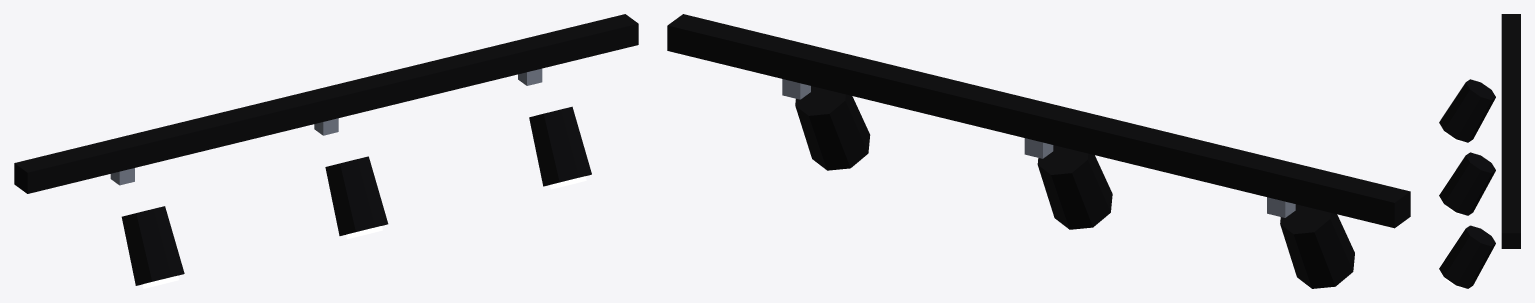
The model's file is SM_Light_Track_3Spot.glb.
The picture shows the model from 3 angles, left to right: view 1: azimuth 30°, elevation 25°; view 2: azimuth 150°, elevation 25°; view 3: azimuth 270°, elevation 25°; orthographic projection. The views are drawn at different scales.
Parts seen in each view (by area): view 1: SM_Light_Track_3Spot; view 2: SM_Light_Track_3Spot; view 3: SM_Light_Track_3Spot.
Part boxes in pixels (x1,y1,x2,y2): SM_Light_Track_3Spot: [14, 14, 638, 288]; SM_Light_Track_3Spot: [667, 14, 1410, 288]; SM_Light_Track_3Spot: [1439, 14, 1520, 288].
Size of the model in its own units: 1.2 by 0.2282 by 0.1895.
